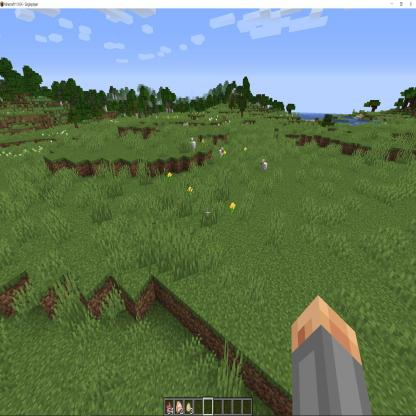minecraft-pigs: (259, 158, 269, 177), (189, 135, 197, 154), (218, 146, 226, 161)
